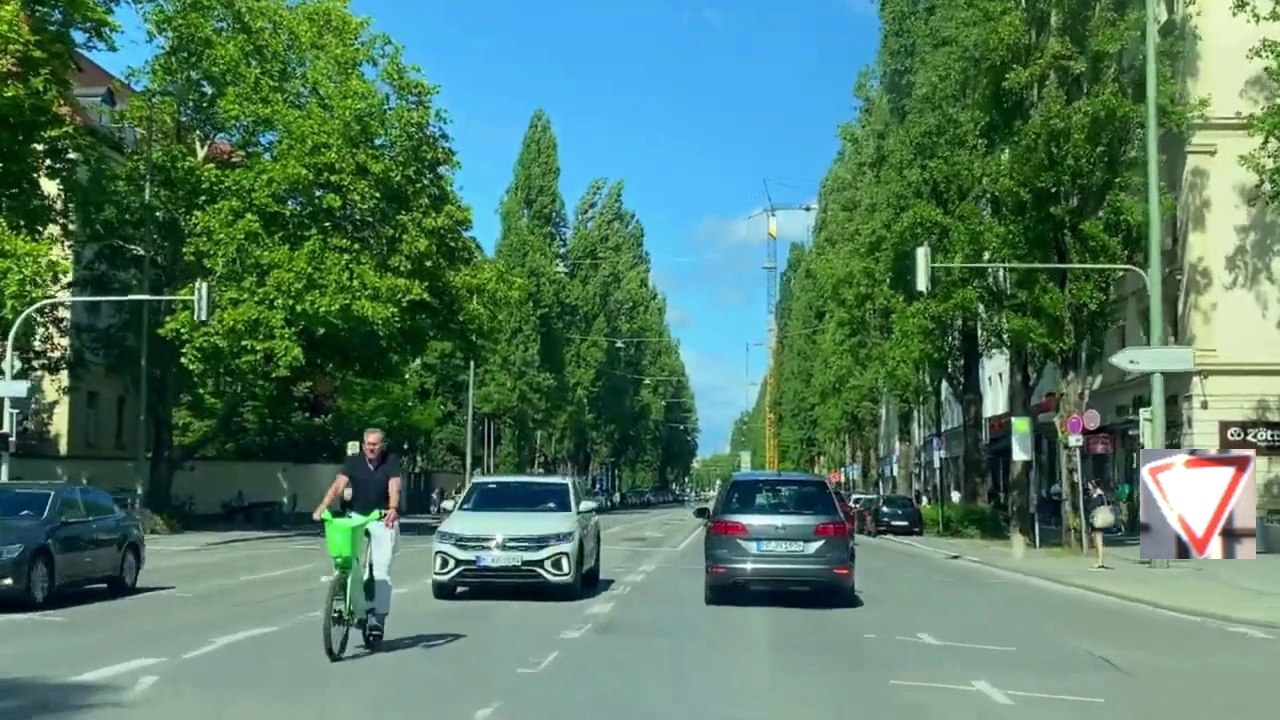Yield: (1140, 449, 1256, 559)
